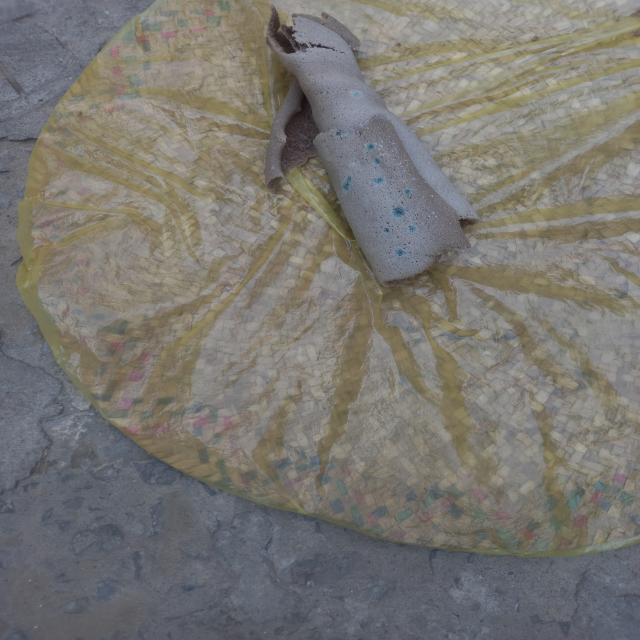injera_mold: (389, 205, 406, 219), (340, 177, 356, 190), (348, 87, 364, 100), (333, 129, 349, 139), (365, 141, 377, 153), (394, 247, 406, 258), (372, 176, 385, 184), (380, 141, 386, 157), (406, 226, 419, 233), (373, 157, 381, 167), (409, 176, 420, 183), (347, 162, 358, 168), (402, 189, 412, 195), (376, 113, 386, 119), (268, 166, 277, 172), (383, 226, 389, 234), (398, 161, 404, 169), (402, 155, 408, 162), (390, 141, 398, 146), (391, 148, 399, 153), (433, 210, 436, 220), (350, 44, 354, 49), (430, 194, 435, 198), (361, 121, 366, 124), (428, 215, 430, 219)
